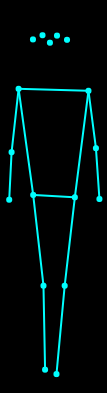mountain: (4, 27, 104, 378)
